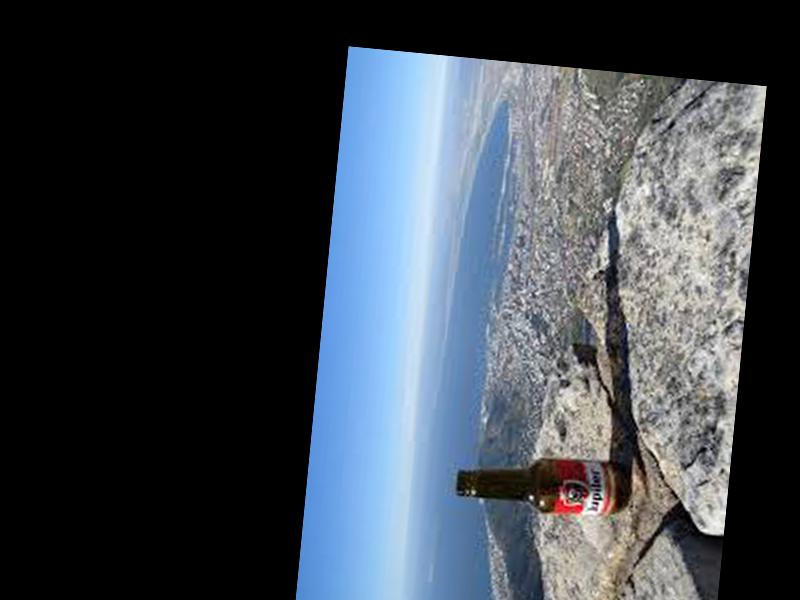Beer: (452, 447, 626, 521)
